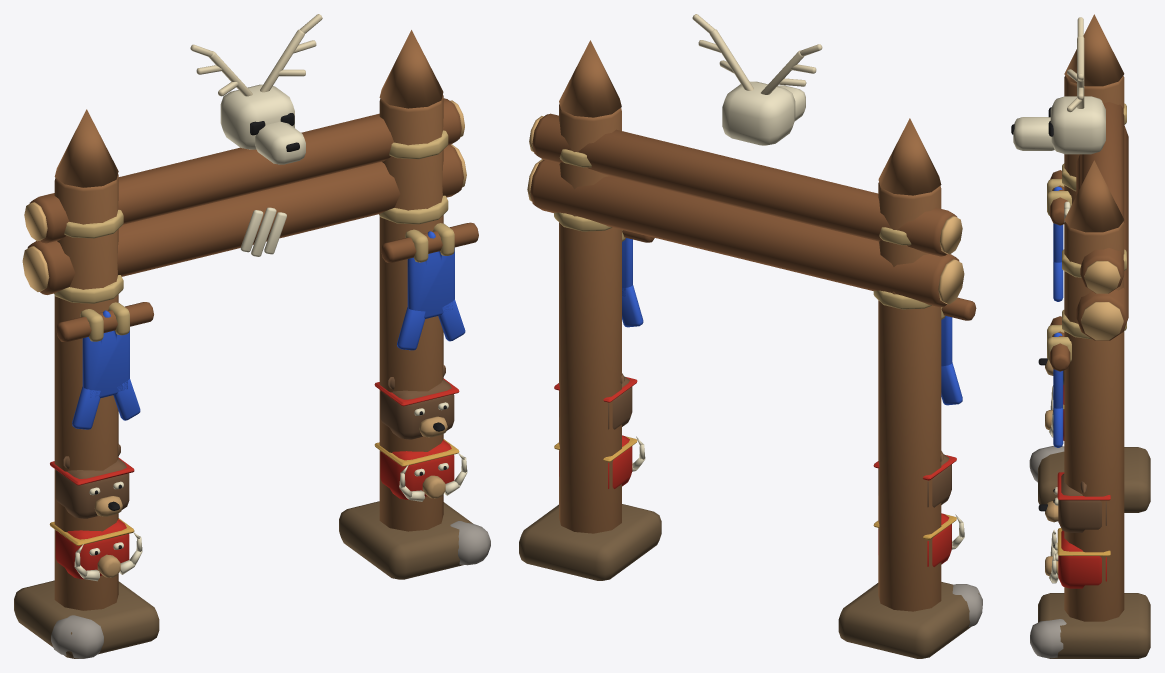
Rendered from WallGate.glb.
The picture shows the model from 3 angles, left to right: view 1: azimuth 30°, elevation 25°; view 2: azimuth 150°, elevation 25°; view 3: azimuth 270°, elevation 25°; orthographic projection. The views are drawn at different scales.
Parts seen in each view (by area): view 1: WallGate; view 2: WallGate; view 3: WallGate.
Boxes of the visible parts, box(x1,y1,x2,y2) form: WallGate: box(14, 14, 490, 658); WallGate: box(519, 14, 982, 658); WallGate: box(1011, 14, 1150, 658).
Size of the model in its own units: 2.26 by 2.88 by 0.693.
